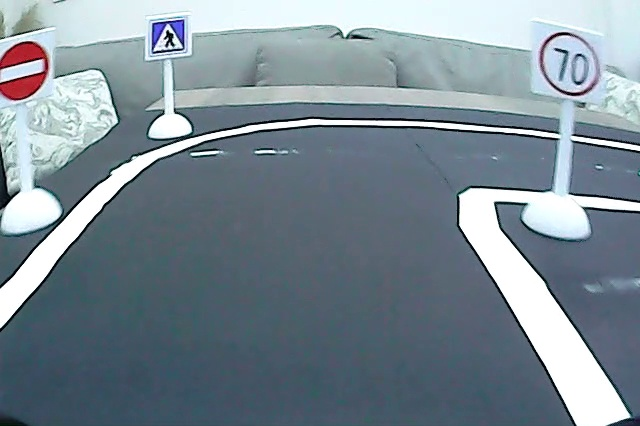do not enter: (1, 36, 54, 105)
pedestrian crossing: (147, 18, 189, 57)
speed limit 70: (536, 28, 603, 101)
